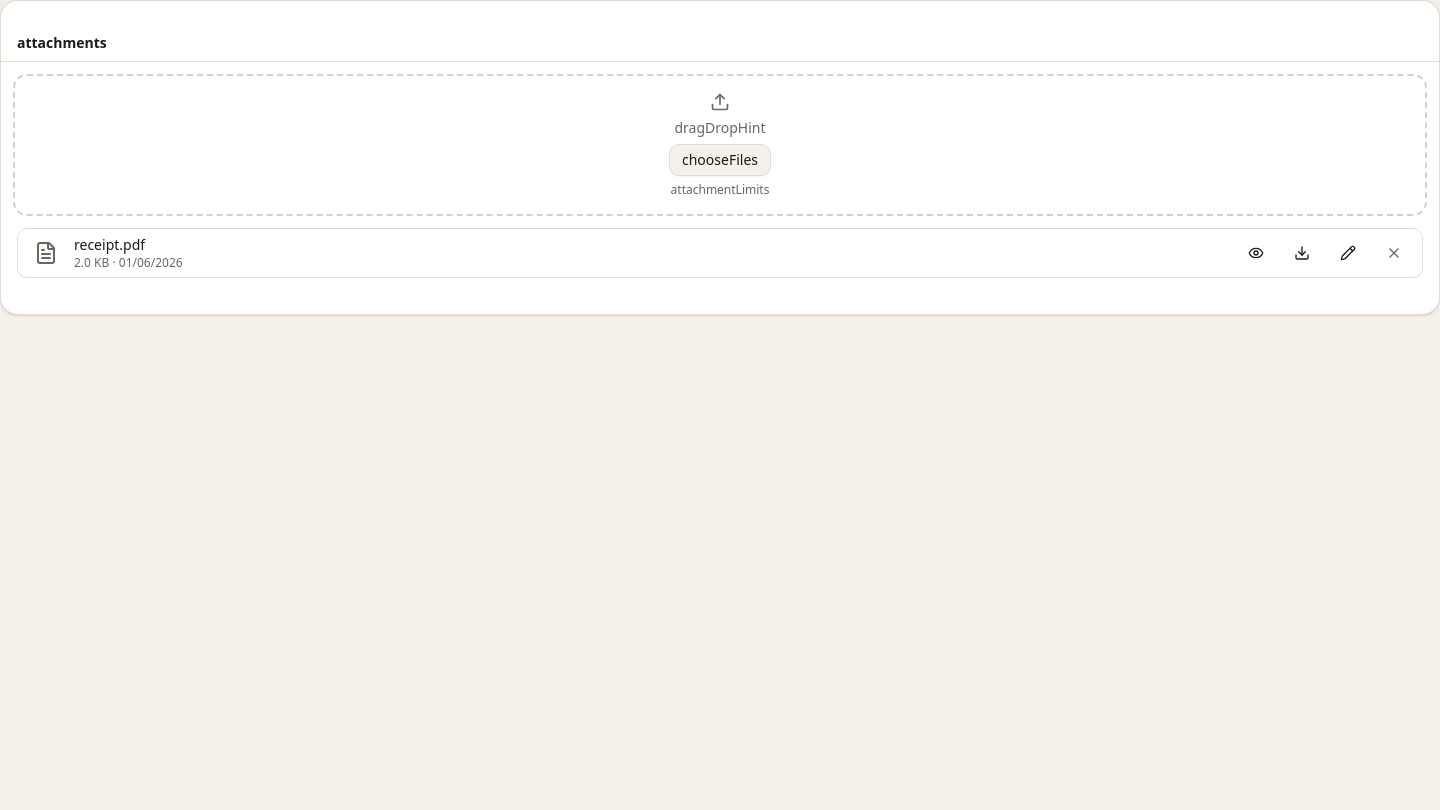
it: InvoiceAttachments rename › shows a failed rename inside the dialog and keeps it open
Expected: the text "receipt.pdf" is shown, [74,235,145,254]
Click the button titled "rename" at (1348, 253), box [1330,237,1366,269]
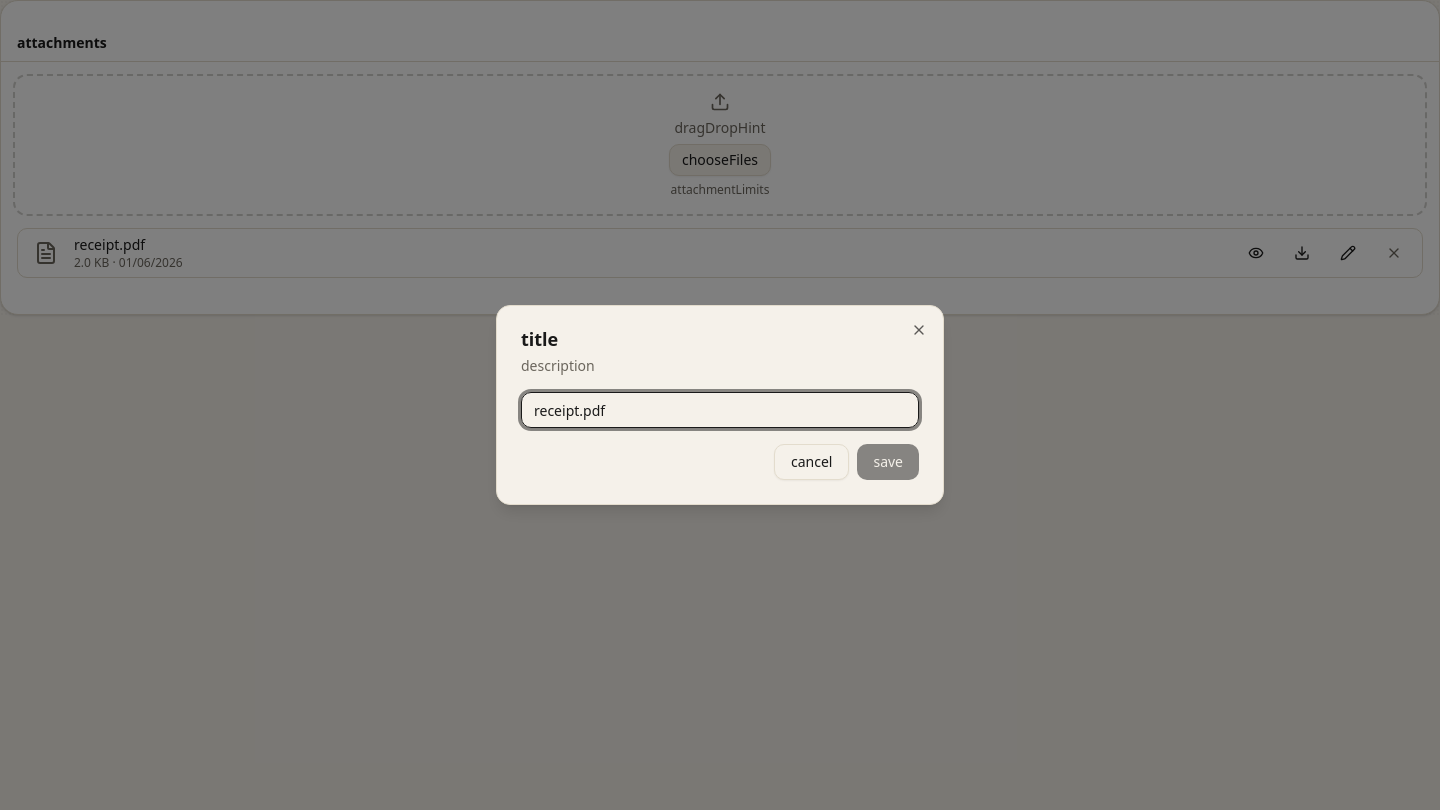
Replace the text in the field showing "receipt.pdf" with "March.pdf" at (720, 410), box [521,392,919,428]
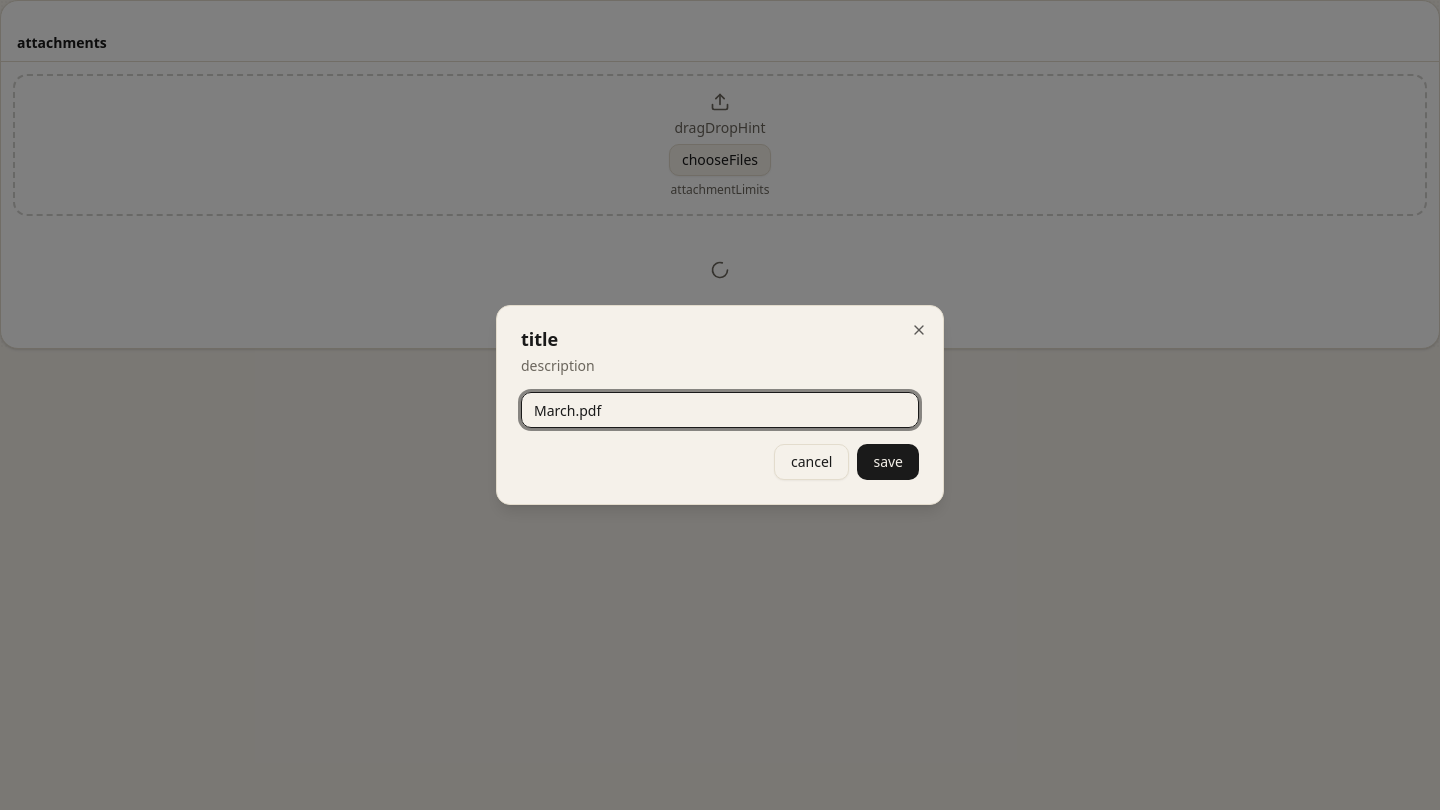
Click the button "save" at (888, 462), box [857,444,919,480]
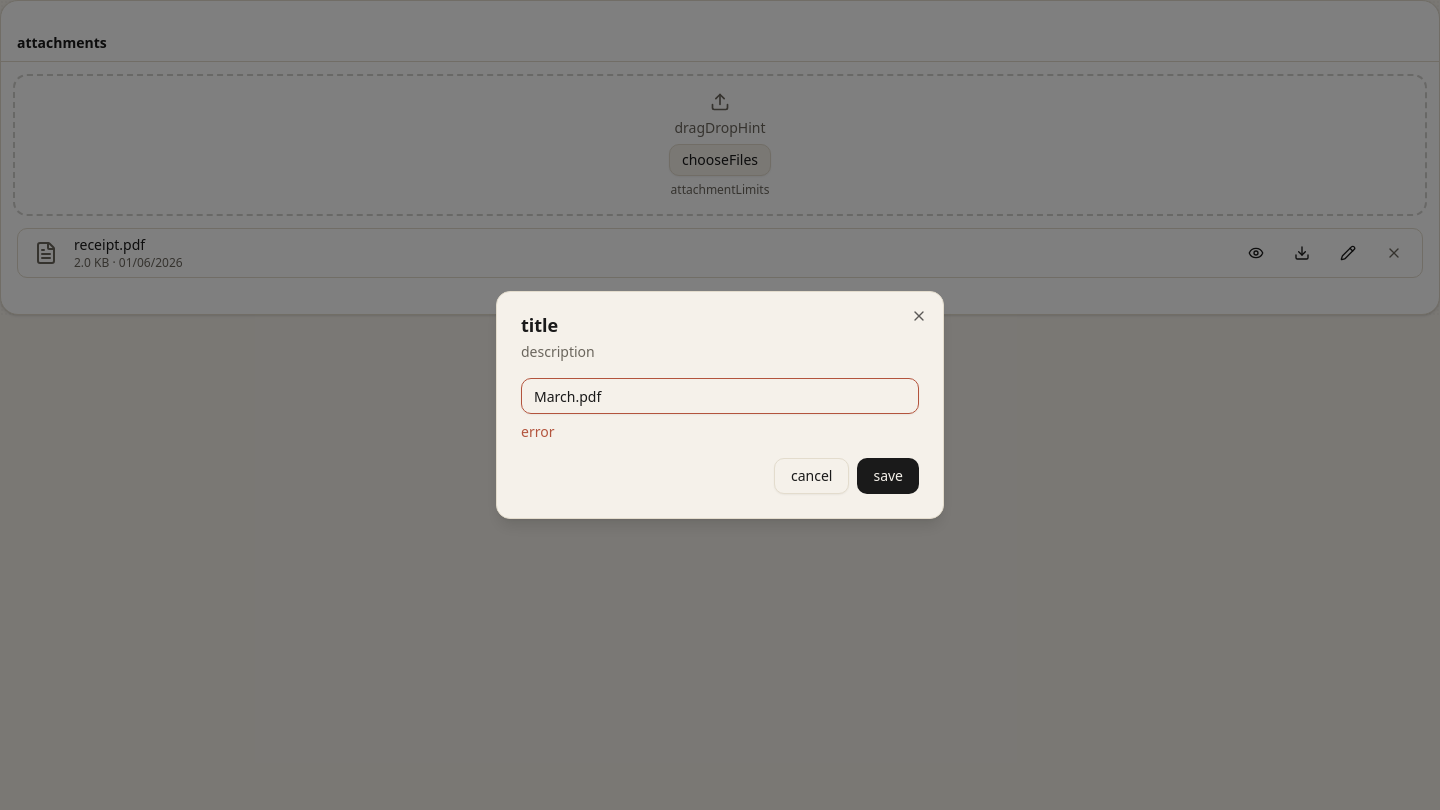
Result: the message reads "error" at [521,422,554,441]
